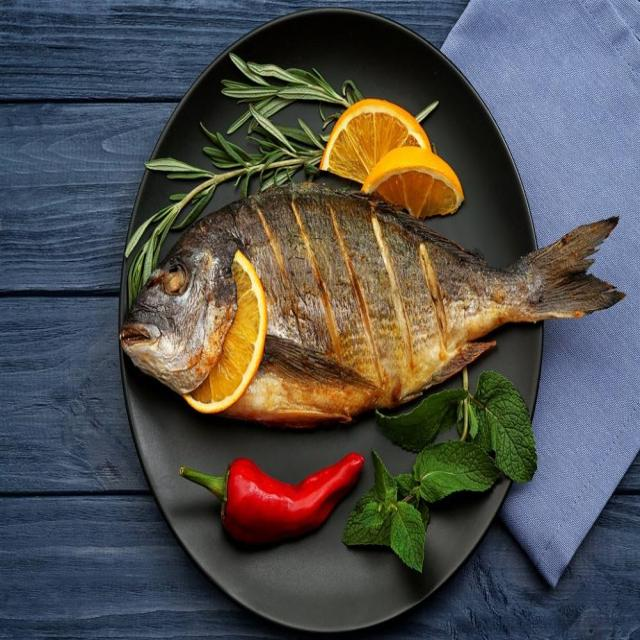Peixe: (118, 179, 626, 430)
